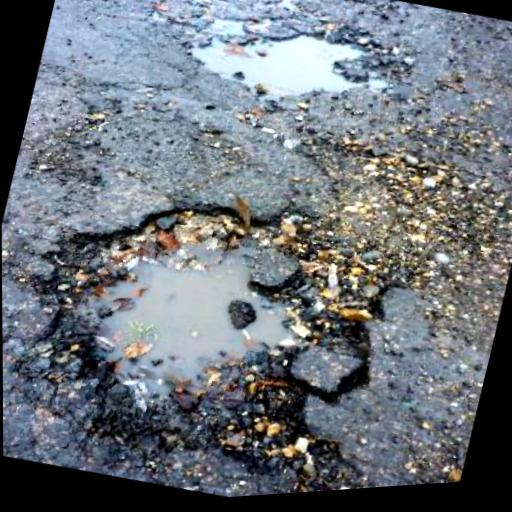pothole: (1, 152, 423, 512), (170, 0, 418, 136)
